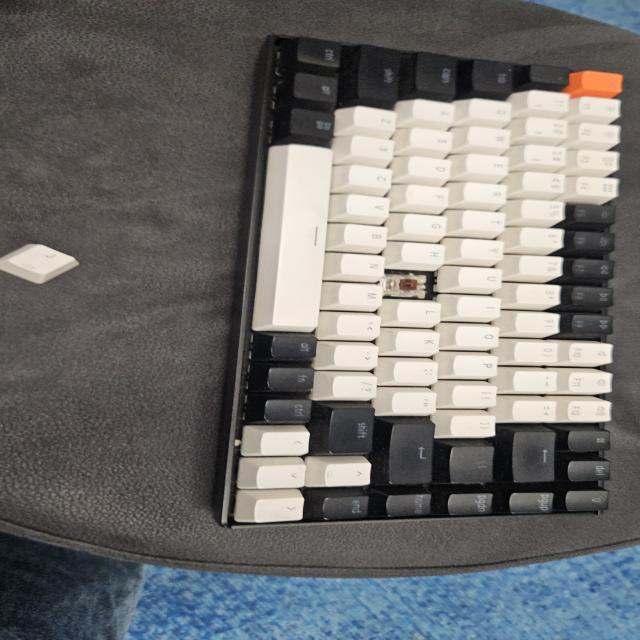C: (384, 271, 434, 300), (391, 273, 424, 293)
